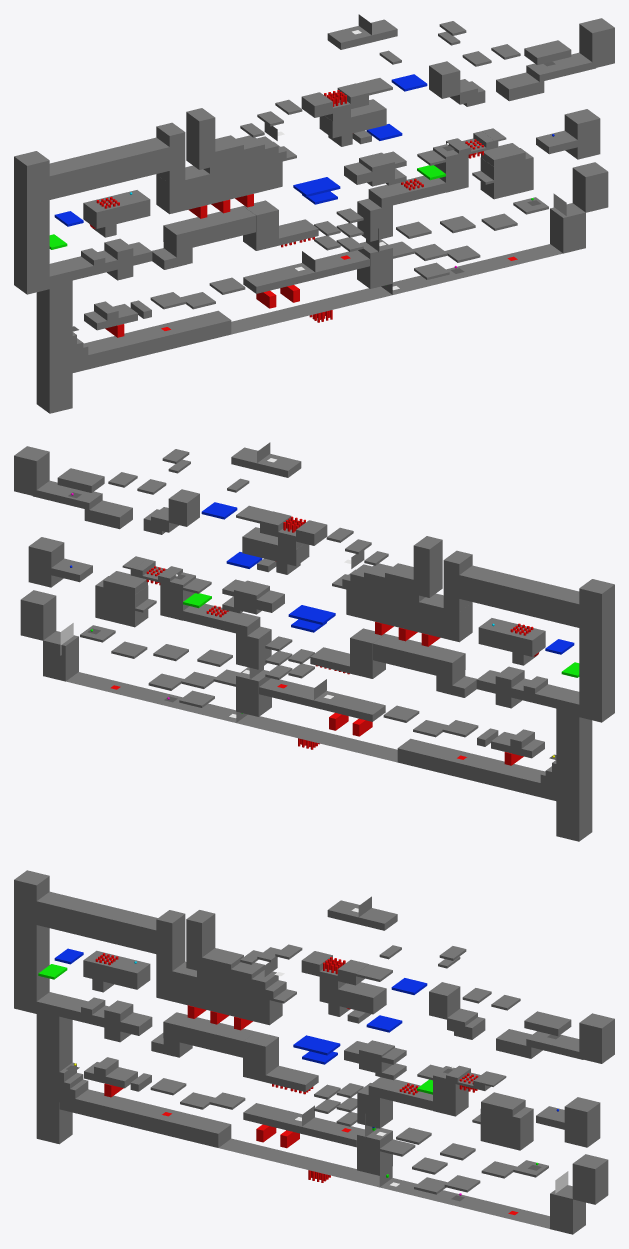
The model's file is Level.0.1v FBX.fbx.
3 renders of one model, top to bottom at view 1: azimuth 30°, elevation 25°; view 2: azimuth 150°, elevation 25°; view 3: azimuth 330°, elevation 25°, orthographic.
Visible parts, largest first — view 1: Cube__107_, Cube__38_, Cube__114_, Cube__104_, Cube__27_, Cube__58_, Suelo3__1_, Cube__39_, Cube__108_, Cube__99_, Cube__75_, Suelo3__2_ (+30 smaller); view 2: Cube__107_, Cube__114_, Cube__38_, Cube__104_, Cube__27_, Cube__58_, Suelo3__1_, Cube__39_, Cube__108_, Cube__99_, Suelo3__2_, Cube__98_ (+29 smaller); view 3: Cube__114_, Cube__107_, Cube__38_, Cube__104_, Cube__27_, Suelo3__1_, Cube__58_, Cube__39_, Cube__99_, Cube__108_, Suelo3__2_, Cube__115_ (+32 smaller).
Part boxes in pixels (box(x1,y1,x2,y2)): Cube__107_: box(14, 151, 49, 294); Cube__38_: box(36, 279, 72, 413); Cube__114_: box(49, 137, 172, 199); Cube__104_: box(156, 156, 282, 214); Cube__27_: box(72, 322, 186, 372); Cube__58_: box(163, 206, 255, 251); Suelo3__1_: box(347, 244, 562, 302); Cube__39_: box(243, 250, 369, 293); Cube__108_: box(83, 190, 150, 228); Cube__99_: box(480, 148, 533, 199); Cube__75_: box(186, 108, 215, 169); Suelo3__2_: box(231, 293, 359, 334); Cube__107_: box(579, 579, 614, 722); Cube__114_: box(456, 565, 579, 627); Cube__38_: box(556, 708, 592, 841); Cube__104_: box(346, 584, 472, 642); Cube__27_: box(442, 750, 556, 800); Cube__58_: box(373, 634, 465, 679); Suelo3__1_: box(66, 672, 281, 730); Cube__39_: box(259, 678, 385, 721); Cube__108_: box(478, 618, 545, 656); Cube__99_: box(95, 576, 148, 627); Suelo3__2_: box(269, 721, 397, 762); Cube__98_: box(20, 590, 56, 640); Cube__114_: box(36, 891, 158, 954); Cube__107_: box(14, 870, 49, 1013); Cube__38_: box(36, 1010, 72, 1144); Cube__104_: box(156, 961, 282, 1025); Cube__27_: box(59, 1089, 185, 1136); Suelo3__1_: box(347, 1171, 549, 1228); Cube__58_: box(163, 1012, 255, 1057); Cube__39_: box(243, 1103, 363, 1147); Cube__99_: box(480, 1107, 533, 1150); Cube__108_: box(83, 950, 150, 989); Suelo3__2_: box(219, 1138, 358, 1179); Cube__115_: box(156, 910, 185, 970).
Bounding box in the file's own units: 25880 × 13101 × 1097.
